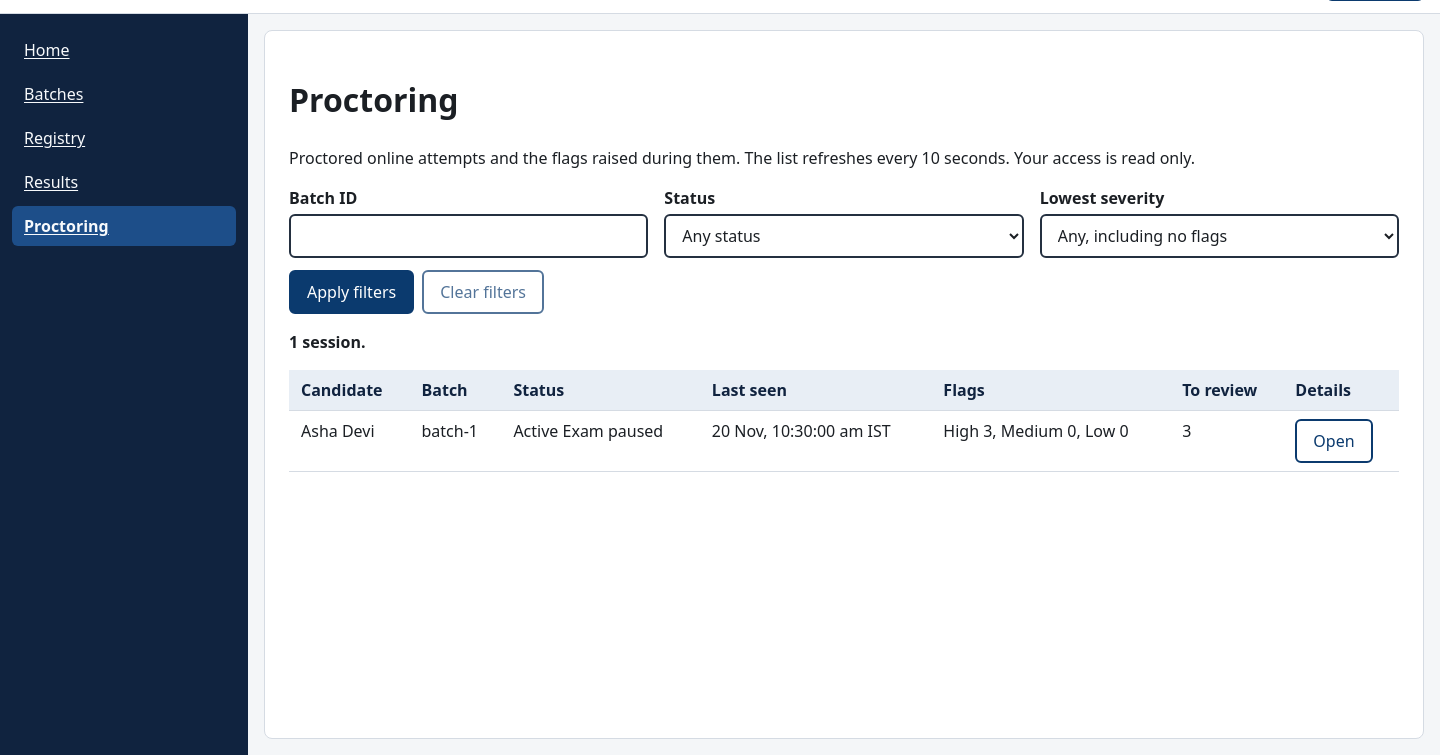
Test case: shows the lock state but no Unlock button to assessor
Click the button with aria-label "Open session of Asha Devi": x=1334, y=441 [1295,419,1373,463]
(page scrolled)
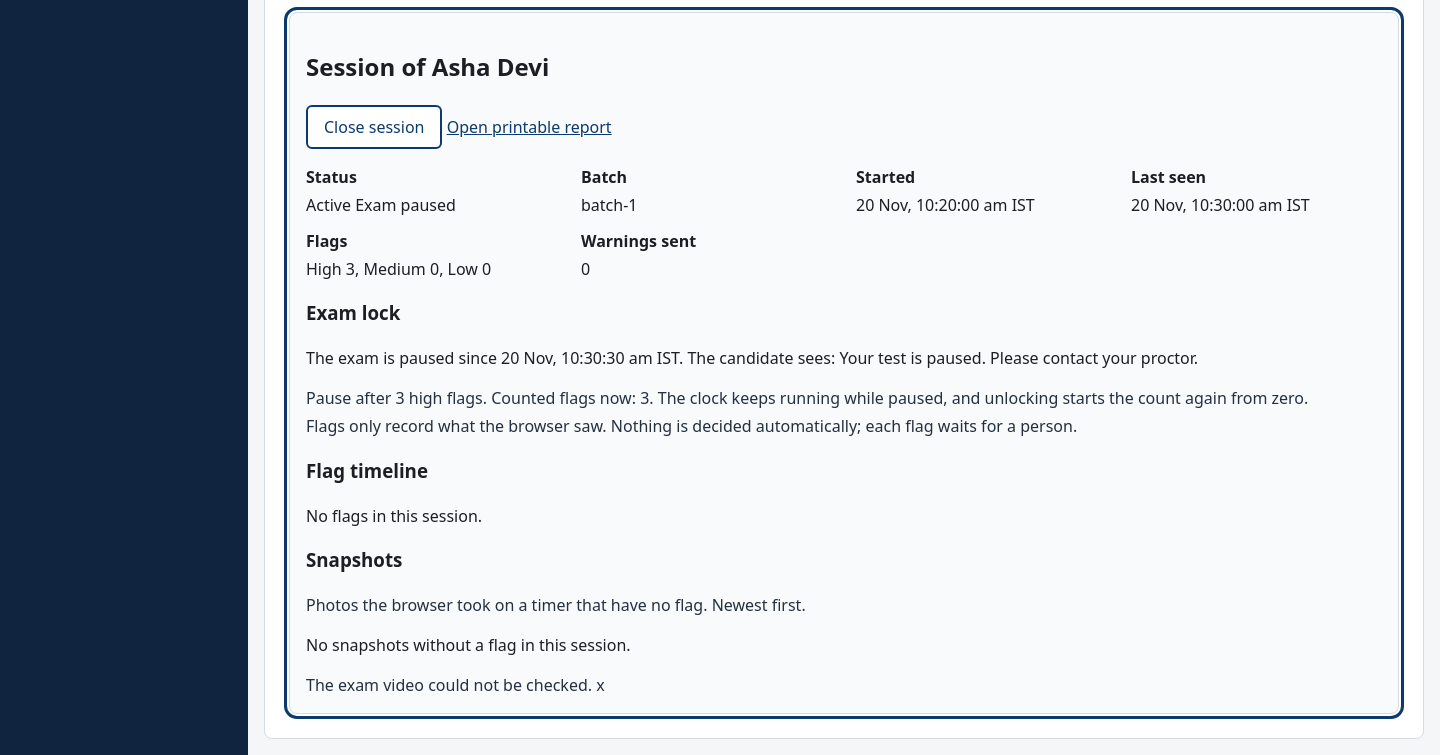
Expected: the text "The exam is paused since" is shown, [306,347,1198,369]
